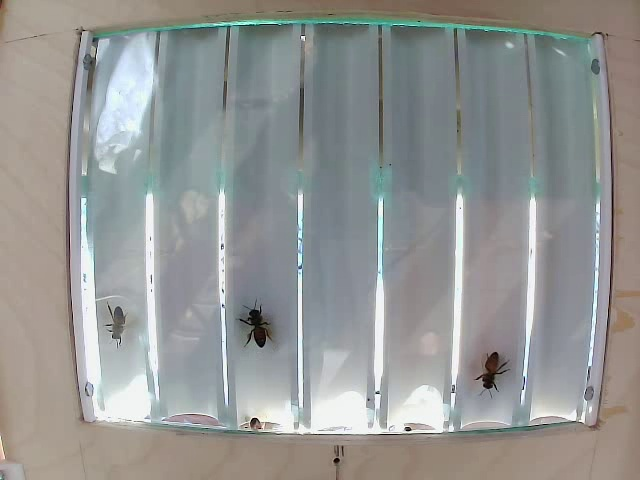bee: (475, 349, 509, 402), (97, 304, 135, 348), (240, 301, 272, 345)
